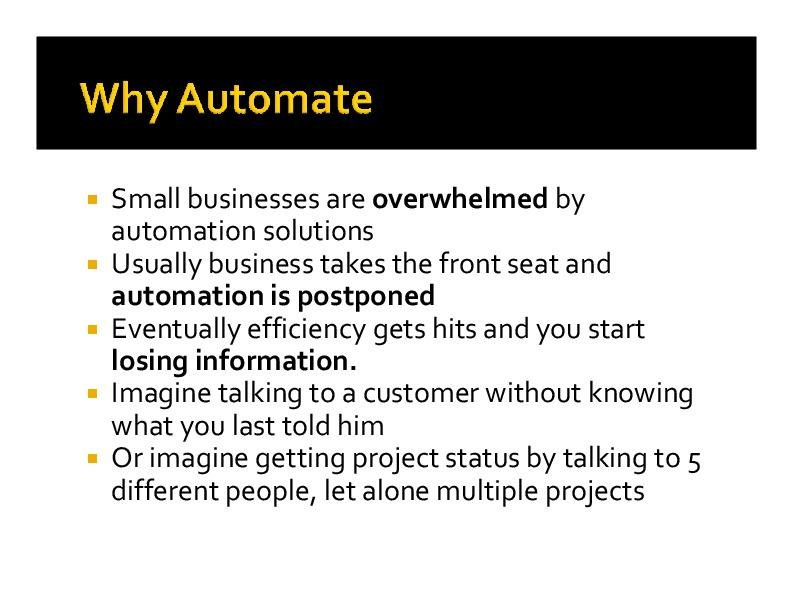paragraph: (104, 168, 735, 534)
title: (72, 66, 389, 127)
